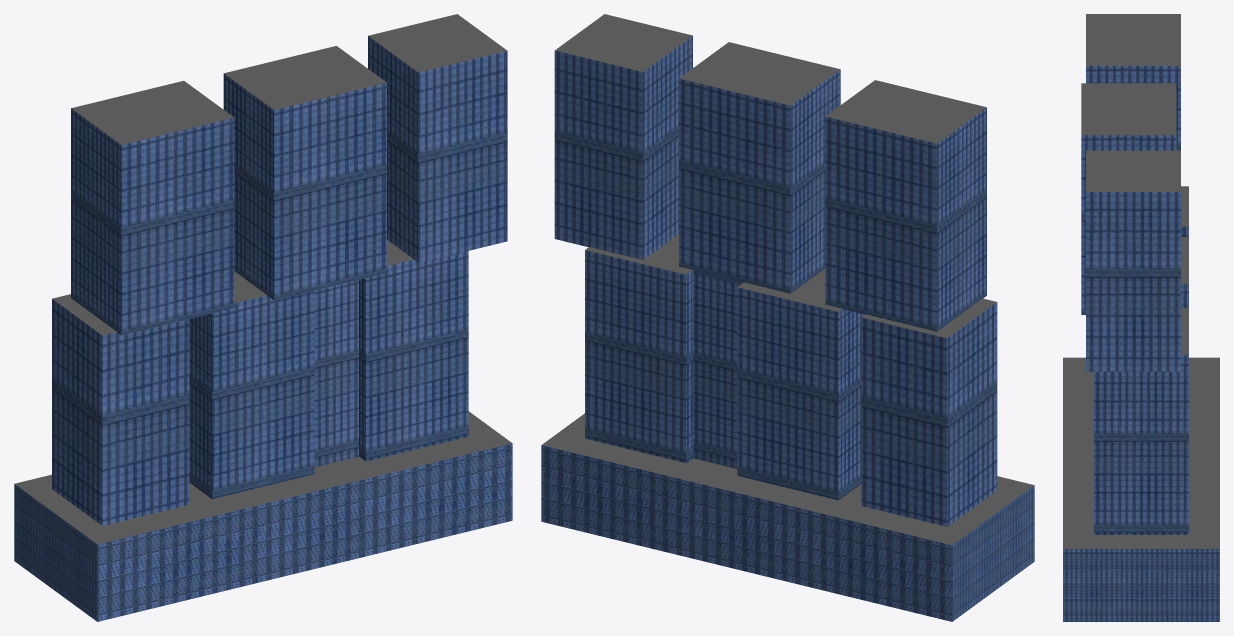
File: DeRotterdam.FBX
3 renders of one model, left to right at view 1: azimuth 30°, elevation 25°; view 2: azimuth 150°, elevation 25°; view 3: azimuth 270°, elevation 25°, orthographic. The views are drawn at different scales.
Parts seen in each view (by area): view 1: Cube, Cube.002, Cube.006, Cube.007, Cube.003, Cube.004, Cube.001, Cube.005; view 2: Cube, Cube.002, Cube.006, Cube.007, Cube.003, Cube.004, Cube.001, Cube.005; view 3: Cube, Cube.007, Cube.001, Cube.006, Cube.002, Cube.004, Cube.003.
Part boxes in pixels (x1,y1,x2,y2): Cube: (14,411,512,621); Cube.002: (71,80,234,335); Cube.006: (223,46,386,300); Cube.007: (368,14,507,262); Cube.003: (52,294,189,525); Cube.004: (189,271,314,498); Cube.001: (359,240,468,461); Cube.005: (314,280,358,467); Cube: (541,413,1034,621); Cube.002: (825,80,986,331); Cube.006: (679,42,840,293); Cube.007: (554,14,692,259); Cube.003: (861,298,997,526); Cube.004: (737,269,864,500); Cube.001: (585,234,693,463); Cube.005: (672,252,742,468); Cube: (1063,357,1219,621); Cube.007: (1086,150,1180,371); Cube.001: (1094,308,1188,534); Cube.006: (1081,83,1176,314); Cube.002: (1086,14,1180,150); Cube.004: (1181,237,1188,307); Cube.003: (1181,186,1188,236).
Size of the model in its own units: 816 by 847 by 278.
